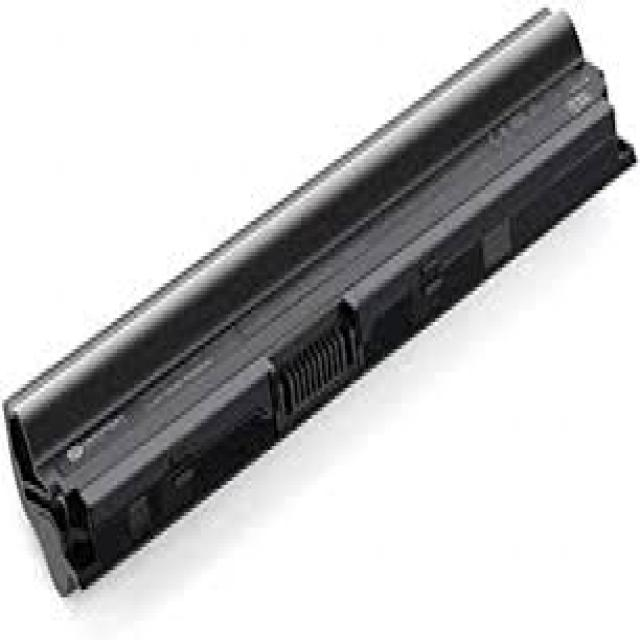non-organic waste: (2, 0, 640, 600)
